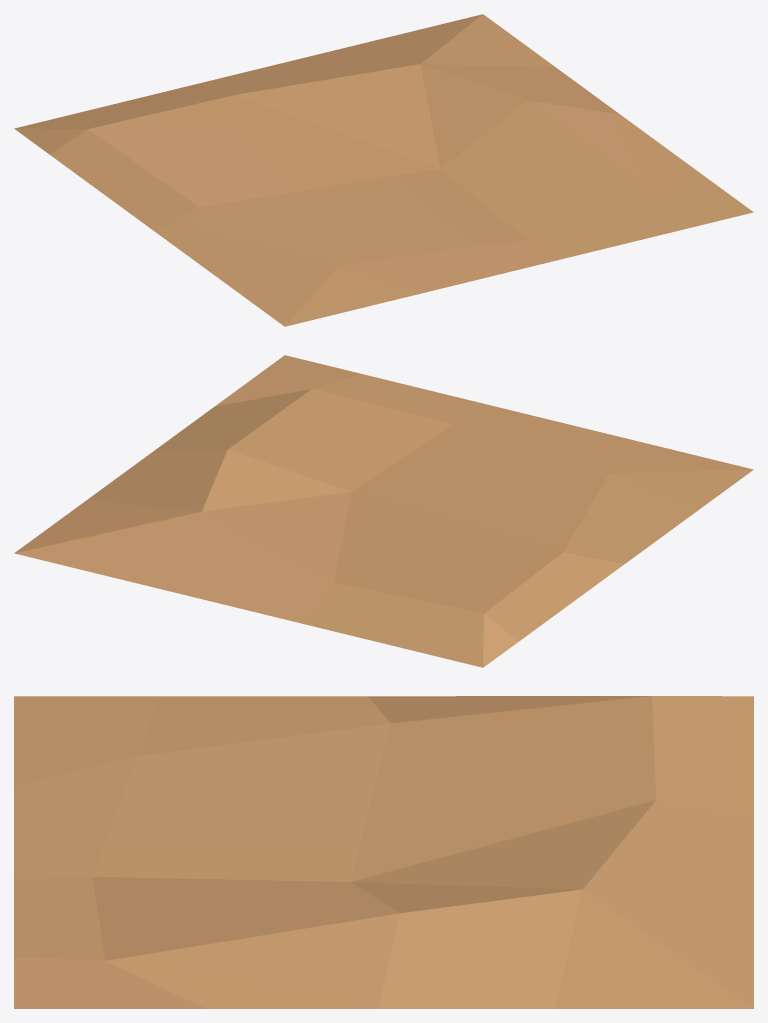
Rendered from Ground_Tile_C.fbx.
3 renders of one model, top to bottom at view 1: azimuth 30°, elevation 25°; view 2: azimuth 150°, elevation 25°; view 3: azimuth 270°, elevation 25°, orthographic. The views are drawn at different scales.
Parts seen in each view (by area): view 1: Ground_Tile_C; view 2: Ground_Tile_C; view 3: Ground_Tile_C.
Boxes of the visible parts, x1=… form: Ground_Tile_C: x1=14, y1=14, x2=753, y2=326; Ground_Tile_C: x1=14, y1=355, x2=753, y2=667; Ground_Tile_C: x1=14, y1=696, x2=753, y2=1008.
Bounding box in the file's own units: 300 × 17.79 × 300.
